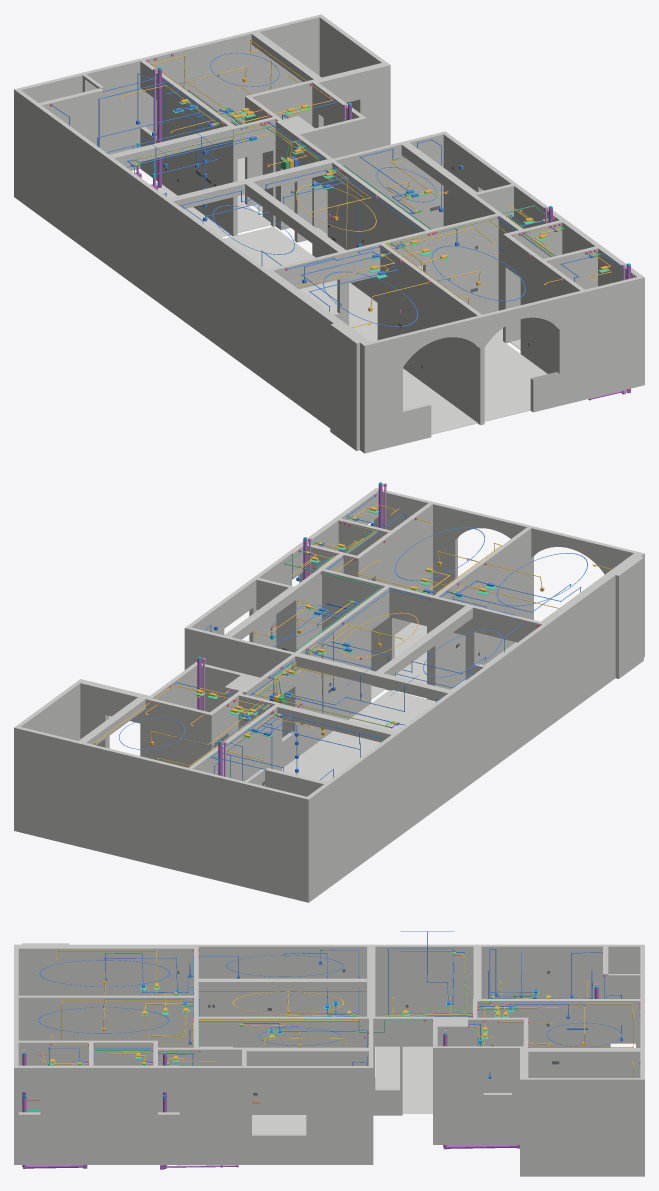
3 views of the same model, one above another, from view 1: azimuth 30°, elevation 25°; view 2: azimuth 150°, elevation 25°; view 3: azimuth 270°, elevation 25° (orthographic). The views are drawn at different scales.
Visible parts, largest first — view 1: layer-17, layer-15, layer-26, layer-6, layer-25, layer-27, layer-19, layer-33, layer-8, layer-5, layer-0, layer-28; view 2: layer-17, layer-15, layer-26, layer-6, layer-27, layer-25, layer-19, layer-33, layer-8, layer-5, layer-0; view 3: layer-17, layer-15, layer-26, layer-6, layer-27, layer-33, layer-19, layer-25, layer-8, layer-0, layer-28, layer-5 (+1 smaller).
Boxes of the visible parts, <box> form: layer-17: <box>14,14,644,453</box>; layer-15: <box>150,157,547,434</box>; layer-26: <box>51,73,450,311</box>; layer-6: <box>123,39,611,327</box>; layer-25: <box>98,81,632,281</box>; layer-27: <box>136,53,525,326</box>; layer-19: <box>134,107,599,257</box>; layer-33: <box>136,69,630,400</box>; layer-8: <box>132,108,594,257</box>; layer-5: <box>186,67,480,307</box>; layer-0: <box>172,101,609,278</box>; layer-28: <box>127,108,594,258</box>; layer-17: <box>14,488,644,902</box>; layer-15: <box>282,622,516,781</box>; layer-26: <box>177,558,581,780</box>; layer-6: <box>94,504,612,766</box>; layer-27: <box>119,527,587,772</box>; layer-25: <box>171,495,515,780</box>; layer-19: <box>238,516,454,726</box>; layer-33: <box>197,484,382,775</box>; layer-8: <box>242,517,455,727</box>; layer-5: <box>150,551,542,745</box>; layer-0: <box>194,510,495,738</box>; layer-17: <box>14,943,644,1176</box>; layer-15: <box>198,1046,432,1133</box>; layer-26: <box>103,931,621,1065</box>; layer-6: <box>42,950,633,1077</box>; layer-27: <box>38,931,622,1046</box>; layer-33: <box>22,987,598,1169</box>; layer-19: <box>78,952,518,1065</box>; layer-25: <box>24,948,592,1095</box>; layer-8: <box>78,952,517,1064</box>; layer-0: <box>50,986,551,1065</box>; layer-28: <box>78,951,518,1062</box>; layer-5: <box>103,972,584,1044</box>.
Bounding box in the file's own units: 9.06 × 3.96 × 17.71.
